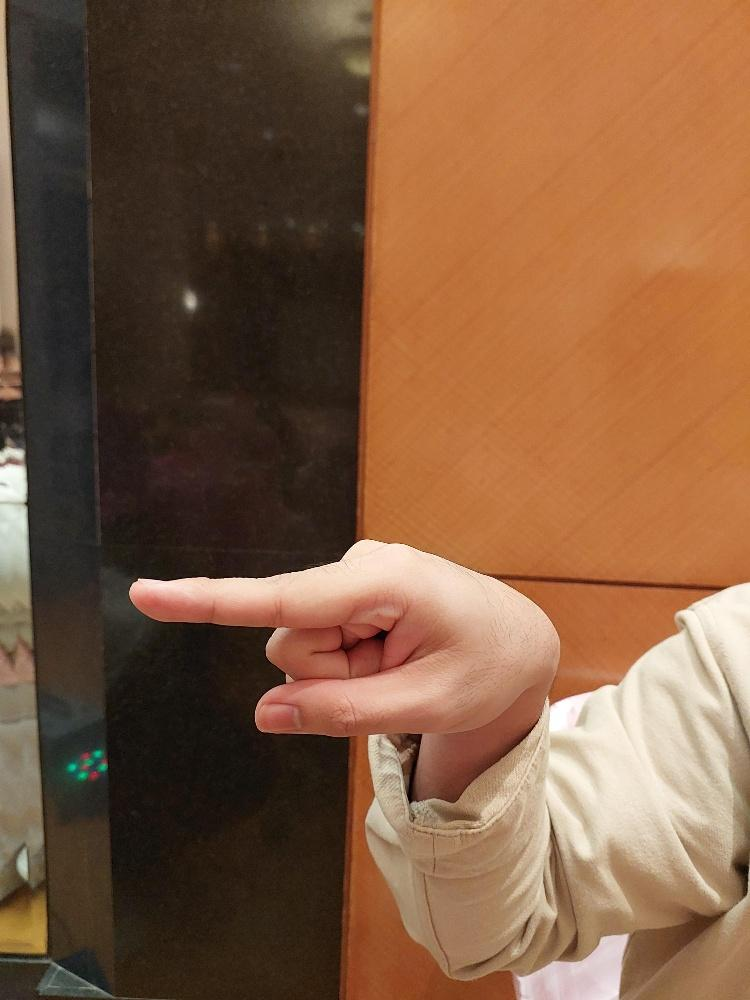z: (124, 530, 553, 738)
